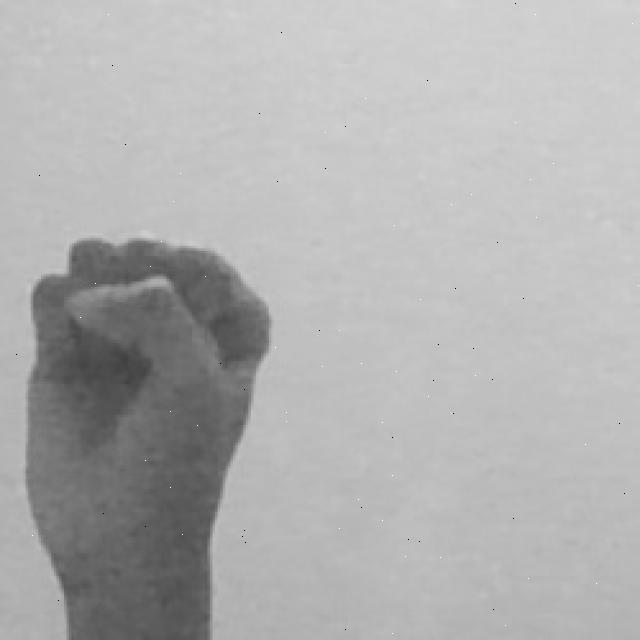S: (7, 225, 281, 640)
